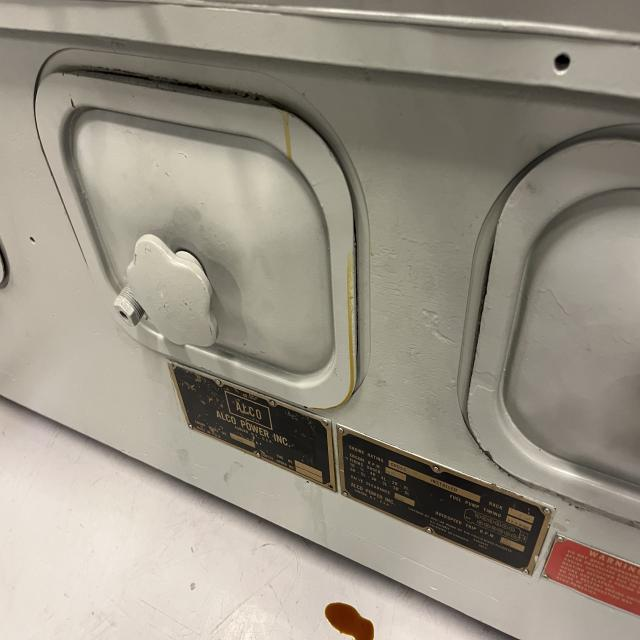Oil Leak: (278, 110, 369, 410), (325, 602, 374, 640)
